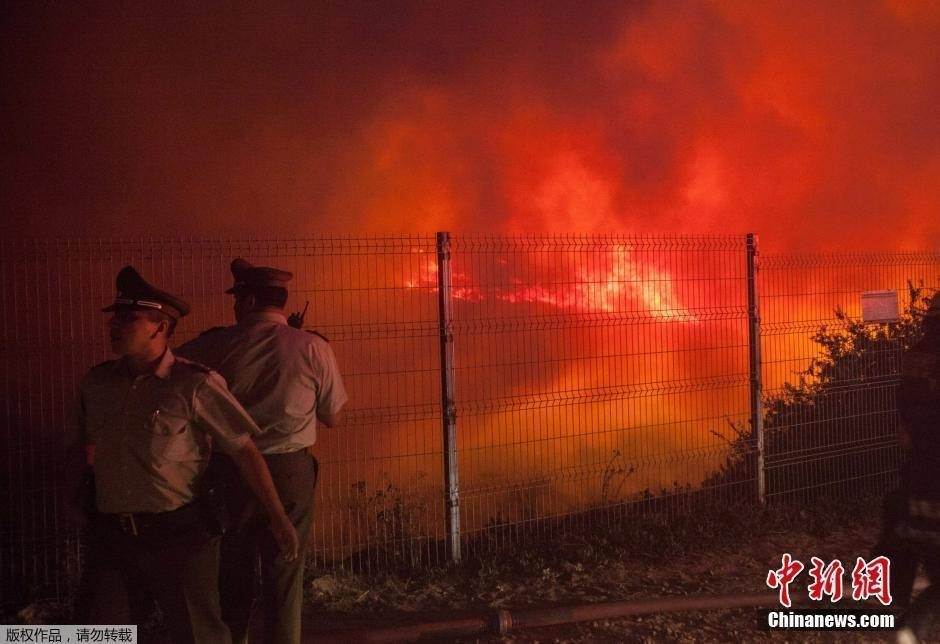fire: (404, 234, 695, 316)
